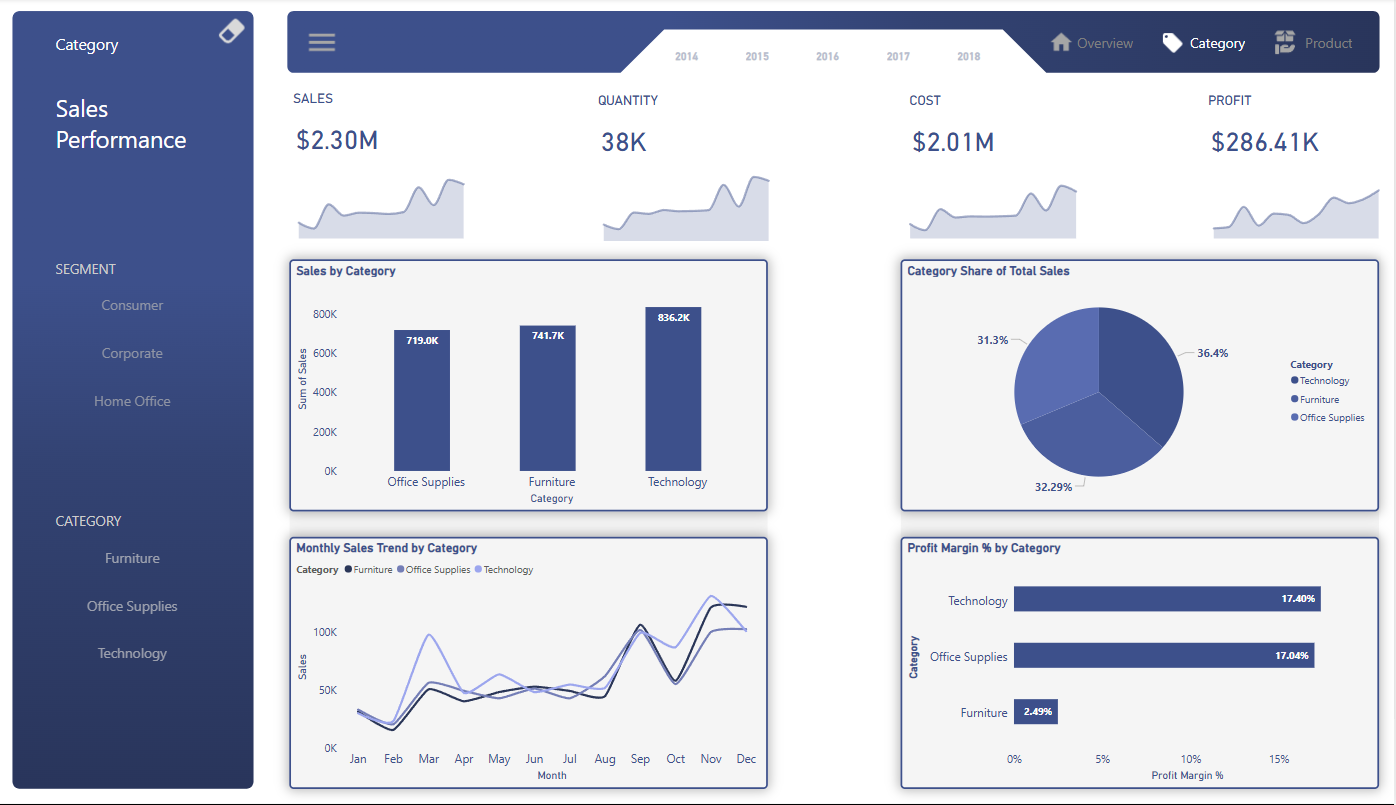

This screenshot's page, from the dashboard's own definition file:
{"tool":"powerbi","page":{"name":"Category","canvas":[1900,1100],"ordinal":1},"visuals":[{"type":"shape","box":[1227.9,355.4,651.4,721.1],"z":0},{"type":"actionButton","box":[1426,19,136,83],"z":1000},{"type":"actionButton","box":[1579,19,136,83],"z":2000},{"type":"actionButton","box":[1730,19,136,83],"z":3000},{"type":"listSlicer","title":"SEGMENT","fields":{"Values":["Order_Data.Segment"]},"box":[73.7,355.7,219.3,226.7],"z":4000},{"type":"listSlicer","title":"CATEGORY","fields":{"Values":["Order_Data.Category"]},"box":[73.7,698.6,219.3,224.9],"z":5000},{"type":"advancedSlicerVisual","fields":{"Values":["Order_Data.Ship Date.Variation.Date Hierarchy.Year"]},"box":[903.2,42.4,492.1,73.7],"z":6000},{"type":"textbox","box":[73.8,122.5,201.2,103.8],"z":7000},{"type":"textbox","box":[73.8,42.5,110,42.5],"z":8000},{"type":"shape","box":[396.3,355.4,651.4,721.1],"z":9000},{"type":"clusteredColumnChart","title":"Sales by Category","fields":{"Category":["Order_Data.Category"],"Y":["Sum(Order_Data.Sales)"]},"box":[396.3,355.4,651.4,343.5],"z":10000},{"type":"lineChart","title":"Monthly Sales Trend by Category","fields":{"Category":["Order_Data.Short_Month"],"Y":["Sum(Order_Data.Sales)"],"Series":["Order_Data.Category"]},"box":[396.3,733,651.4,343.5],"z":11000},{"type":"cardVisual","title":"QUANTITY","fields":{"Data":["Sum(Order_Data.Quantity)"]},"box":[810.9,129,237.8,103],"z":12000},{"type":"cardVisual","title":"SALES","fields":{"Data":["Sum(Order_Data.Sales)"]},"box":[396.3,125.3,237.8,103.2],"z":13000},{"type":"lineChart","fields":{"Y":["Sum(Order_Data.Sales)"],"Category":["Order_Data.Order Date.Variation.Date Hierarchy.Month"]},"box":[396.3,223.6,250.7,110.6],"z":14000},{"type":"lineChart","fields":{"Category":["Order_Data.Order Date.Variation.Date Hierarchy.Month"],"Y":["Sum(Order_Data.Quantity)"]},"box":[811,226.1,250.7,110.6],"z":15000},{"type":"cardVisual","title":"COST","fields":{"Data":["Order_Data.Cost"]},"box":[1234.9,129,237.8,103.2],"z":16000},{"type":"lineChart","fields":{"Category":["Order_Data.Order Date.Variation.Date Hierarchy.Month"],"Y":["Order_Data.Cost"]},"box":[1227.6,223,252.5,110.6],"z":17000},{"type":"cardVisual","title":"PROFIT","fields":{"Data":["Sum(Order_Data.Profit)"]},"box":[1640.4,129,237.8,103.2],"z":18000},{"type":"lineChart","fields":{"Category":["Order_Data.Order Date.Variation.Date Hierarchy.Month"],"Y":["Sum(Order_Data.Profit)"]},"box":[1640.4,223,250.7,110.6],"z":19000},{"type":"pieChart","title":"Category Share of Total Sales","fields":{"Category":["Order_Data.Category"],"Y":["Sum(Order_Data.Sales)"]},"box":[1227.6,355.7,651,343],"z":20000},{"type":"barChart","fields":{"Category":["Order_Data.Category"],"Y":["Order_Data.Profit Margin %"]},"box":[1227.6,733.6,651,343],"z":21000},{"type":"actionButton","box":[292.5,18.7,59.5,51],"z":22000},{"type":"actionButton","box":[412.5,27.5,55,66.2],"z":23000}]}

Visuals, with their boxes in screenshot pixels (x1, y1, x2, y2), scaled from the page's 1900x1100 canvas onto the 1396x805 screenshot:
shape: BBox(902, 260, 1381, 788)
actionButton: BBox(1048, 14, 1148, 75)
actionButton: BBox(1160, 14, 1260, 75)
actionButton: BBox(1271, 14, 1371, 75)
"SEGMENT" listSlicer: BBox(54, 260, 215, 426)
"CATEGORY" listSlicer: BBox(54, 511, 215, 676)
advancedSlicerVisual - Order_Data.Ship Date.Variation.Date Hierarchy.Year: BBox(664, 31, 1025, 85)
textbox: BBox(54, 90, 202, 166)
textbox: BBox(54, 31, 135, 62)
shape: BBox(291, 260, 770, 788)
"Sales by Category" clusteredColumnChart: BBox(291, 260, 770, 511)
"Monthly Sales Trend by Category" lineChart: BBox(291, 536, 770, 788)
"QUANTITY" cardVisual: BBox(596, 94, 771, 170)
"SALES" cardVisual: BBox(291, 92, 466, 167)
lineChart - Sum(Order_Data.Sales) x Order_Data.Order Date.Variation.Date Hierarchy.Month: BBox(291, 164, 475, 245)
lineChart - Order_Data.Order Date.Variation.Date Hierarchy.Month x Sum(Order_Data.Quantity): BBox(596, 165, 780, 246)
"COST" cardVisual: BBox(907, 94, 1082, 170)
lineChart - Order_Data.Order Date.Variation.Date Hierarchy.Month x Order_Data.Cost: BBox(902, 163, 1087, 244)
"PROFIT" cardVisual: BBox(1205, 94, 1380, 170)
lineChart - Order_Data.Order Date.Variation.Date Hierarchy.Month x Sum(Order_Data.Profit): BBox(1205, 163, 1389, 244)
"Category Share of Total Sales" pieChart: BBox(902, 260, 1380, 511)
barChart - Order_Data.Category x Order_Data.Profit Margin %: BBox(902, 537, 1380, 788)
actionButton: BBox(215, 14, 259, 51)
actionButton: BBox(303, 20, 343, 69)
